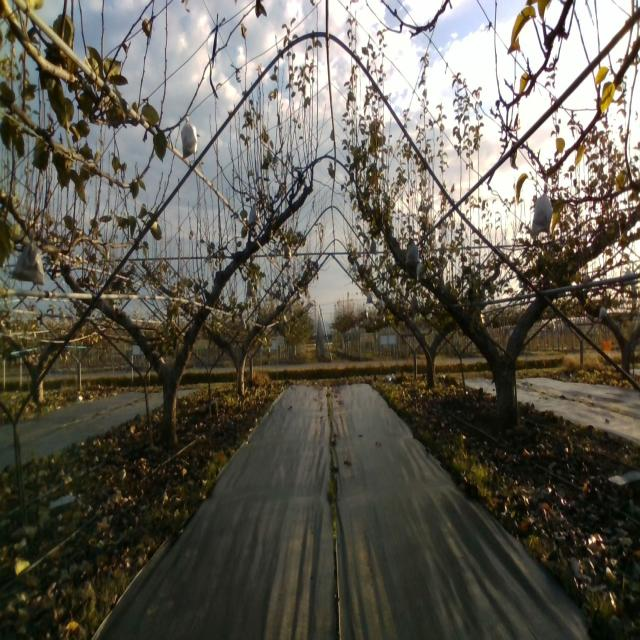pearbags: (531, 182, 552, 236), (180, 115, 198, 159), (405, 242, 421, 271), (247, 200, 262, 230), (416, 262, 427, 280)
